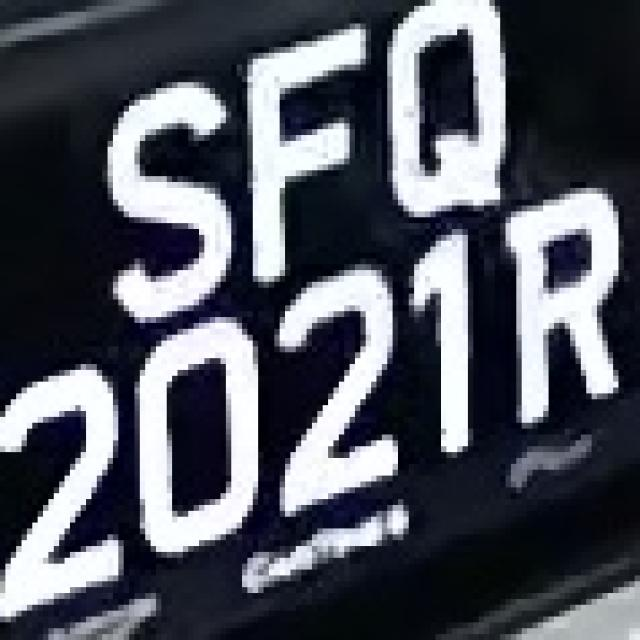0: (129, 311, 264, 570)
1: (398, 229, 500, 481)
2: (258, 258, 409, 522), (5, 358, 146, 617)
F: (236, 6, 376, 305)
Q: (382, 0, 538, 223)
R: (473, 176, 624, 452)
S: (91, 70, 242, 329)
